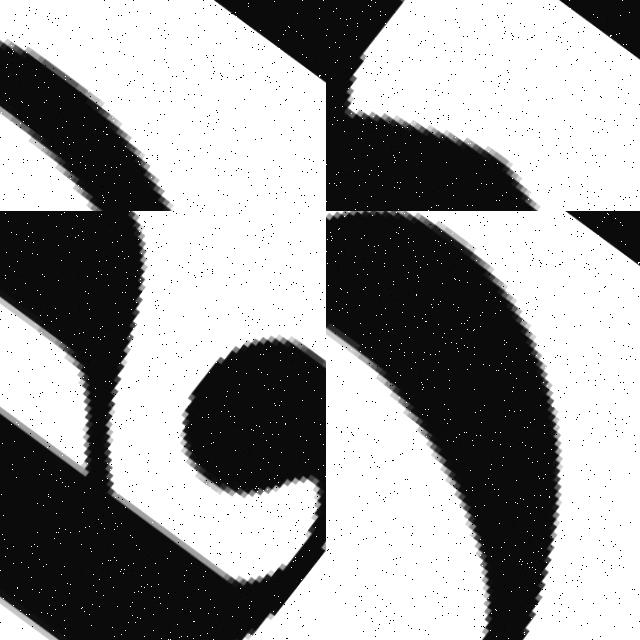0: (0, 0, 326, 211)
A: (0, 211, 326, 640)
O: (326, 211, 569, 640)
Y: (326, 0, 640, 211)
